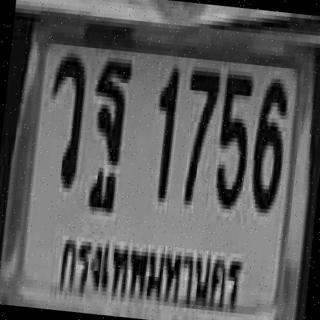A16: (85, 56, 132, 190)
A37: (42, 48, 88, 185)
N01: (148, 63, 178, 198)
N05: (212, 70, 255, 206)
N06: (247, 73, 290, 210)
N07: (177, 66, 220, 202)
P04: (55, 226, 246, 319)
